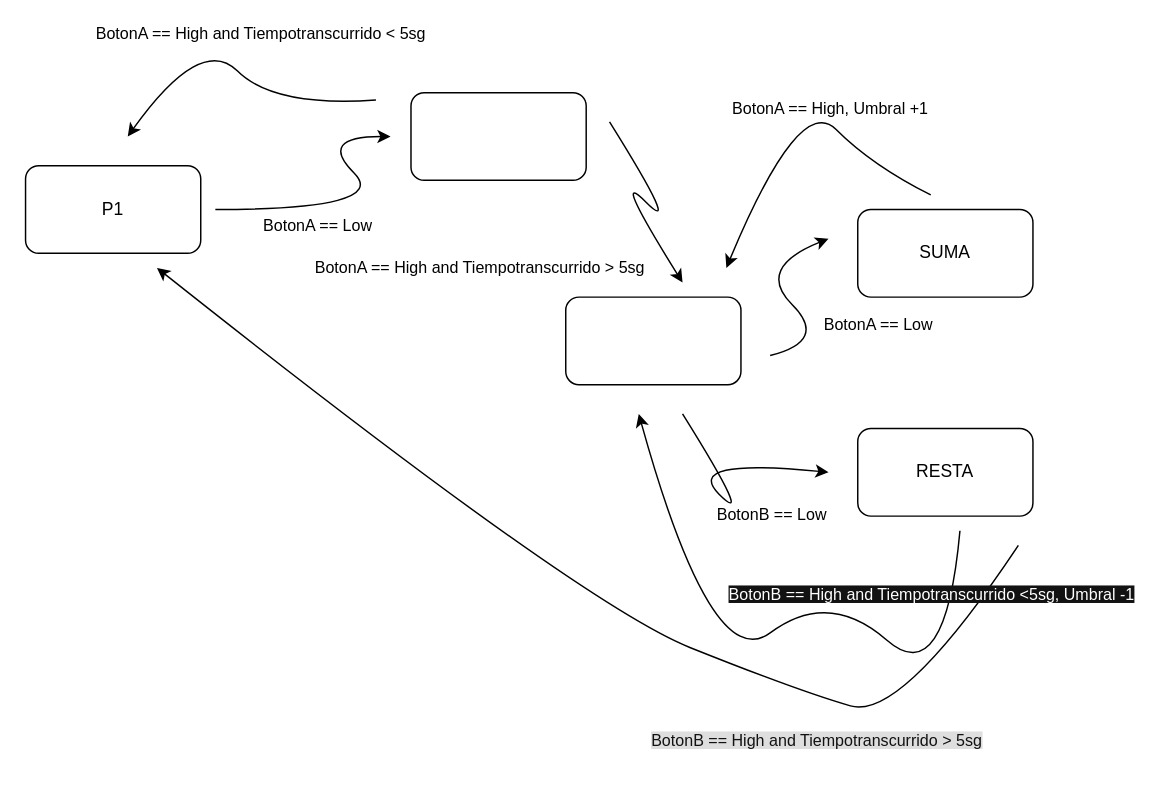
Image size: 1161x804. Some labels were removed from this diagram. The centre of each missing label's shape, as x and y in pixels:
ESPERA1: the point at 498,135
P2: the point at 652,340
